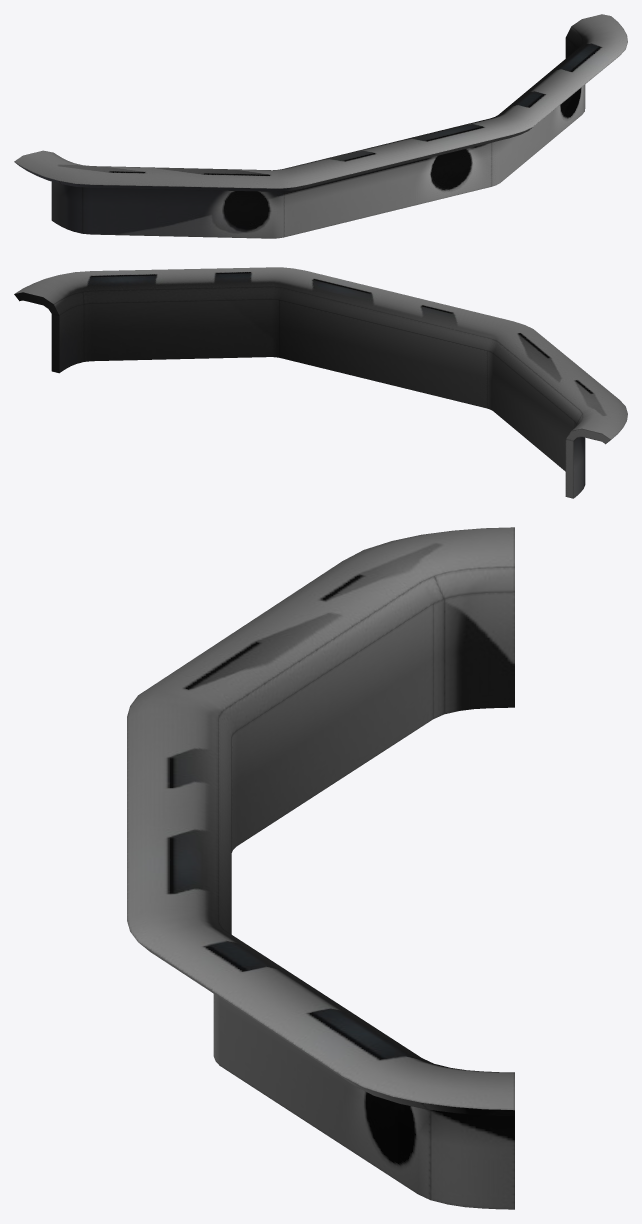
Rendered from counter.obj.
3 views of the same model, one above another, from view 1: azimuth 30°, elevation 25°; view 2: azimuth 150°, elevation 25°; view 3: azimuth 270°, elevation 25° (orthographic). The views are drawn at different scales.
Parts seen in each view (by area): view 1: Box002; view 2: Box002; view 3: Box002.
Part boxes in pixels (left/top/right/bottom): Box002: left=14, top=14, right=627, bottom=238; Box002: left=14, top=267, right=627, bottom=498; Box002: left=127, top=527, right=514, bottom=1209.
Bounding box in the file's own units: 988 × 114 × 278.
1 material, 1 textured.
